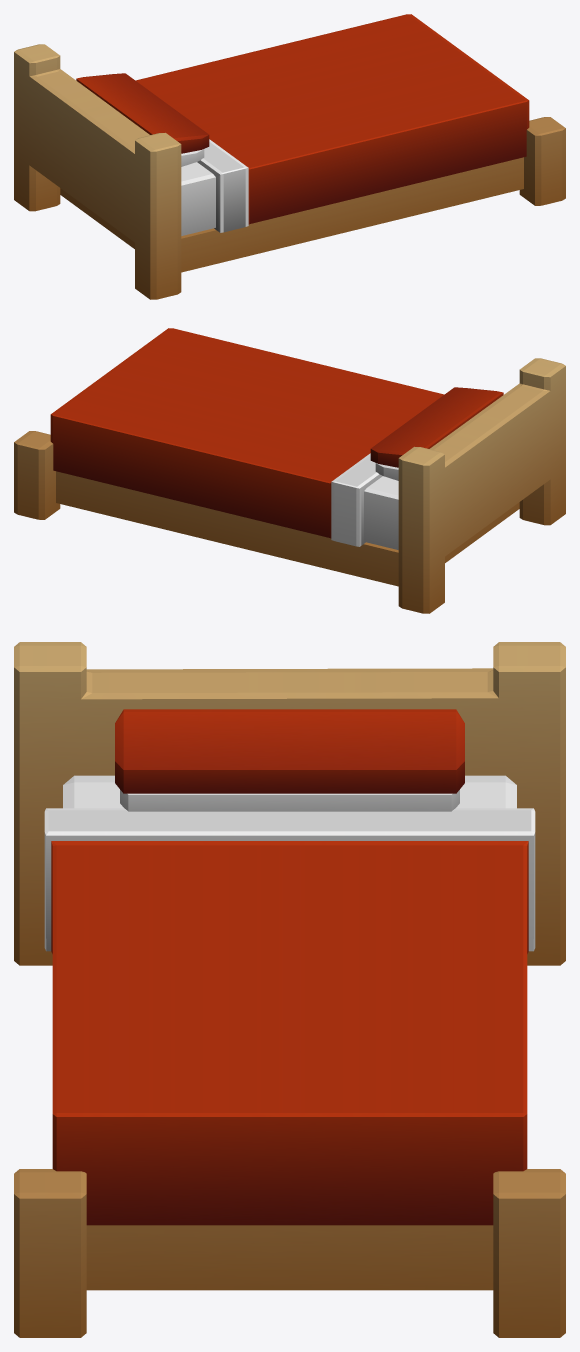
File: CoverDraw.fbx
3 views of the same model, one above another, from view 1: azimuth 30°, elevation 25°; view 2: azimuth 150°, elevation 25°; view 3: azimuth 270°, elevation 25° (orthographic). The views are drawn at different scales.
Parts seen in each view (by area): view 1: BedCover, BedPosts, BedFrame, BedPillow1, BedMattress; view 2: BedCover, BedPosts, BedFrame, BedPillow1, BedMattress; view 3: BedCover, BedPosts, BedPillow1, BedFrame, BedPillow2, BedMattress.
Boxes of the visible parts, x1,y1,x2,y2 form: BedCover: (135, 14, 529, 232); BedPosts: (14, 44, 565, 299); BedFrame: (60, 157, 523, 272); BedPillow1: (76, 73, 209, 153); BedMattress: (181, 162, 215, 235); BedCover: (50, 328, 444, 546); BedPosts: (14, 358, 565, 613); BedFrame: (56, 471, 519, 586); BedPillow1: (370, 387, 503, 467); BedMattress: (364, 476, 398, 549); BedCover: (44, 808, 535, 1225); BedPosts: (14, 642, 565, 1337); BedPillow1: (115, 709, 464, 793); BedFrame: (86, 1225, 493, 1290); BedPillow2: (120, 790, 459, 811); BedMattress: (63, 775, 516, 808).
Bounding box in the file's own units: 419 × 144 × 243.
1 material, 1 textured.
